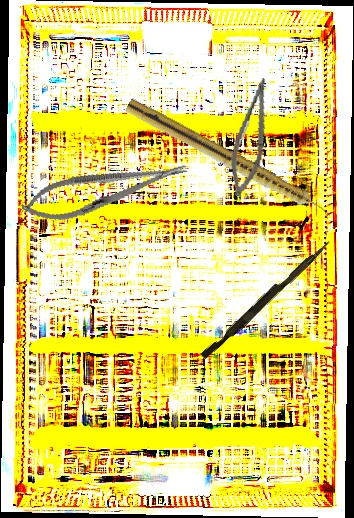Handpiece: (122, 97, 334, 223)
Micro Scissor: (225, 75, 275, 199)
Needle Holder: (17, 149, 192, 231)
Pusher: (200, 235, 332, 363)
